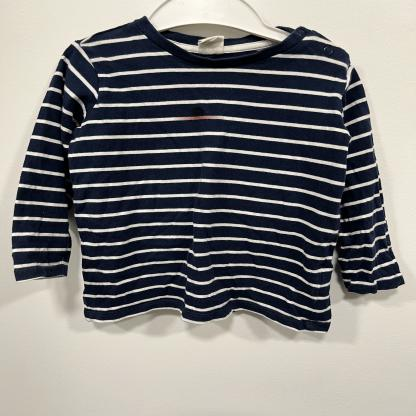stain: (180, 105, 223, 125)
